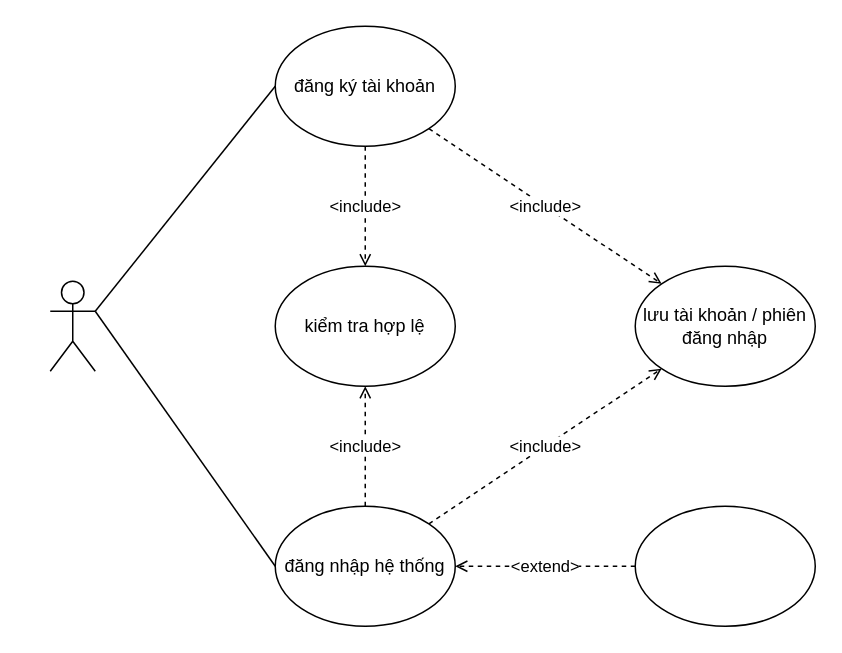
Some shapes in this 842 by 653 pixel diagram are drawn without their labels. Each missing label, with the centre of its shape:
khách hàng: [72,325]
quên mật khẩu: [724,565]
